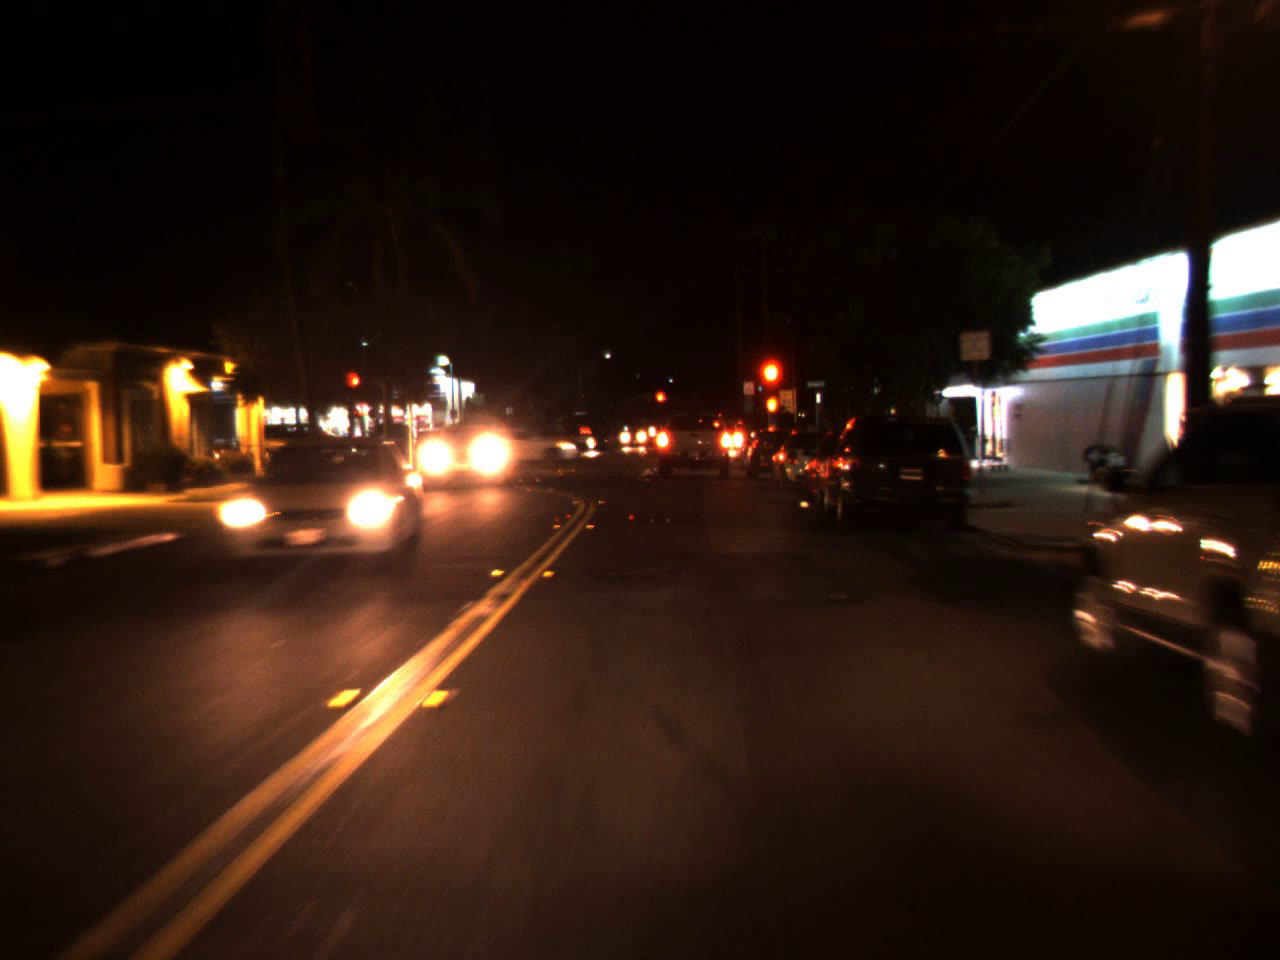stop: (754, 353, 787, 423), (346, 371, 362, 403), (653, 389, 668, 416)
